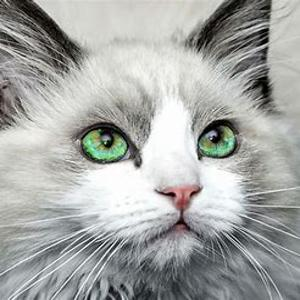cat: (1, 3, 294, 291)
